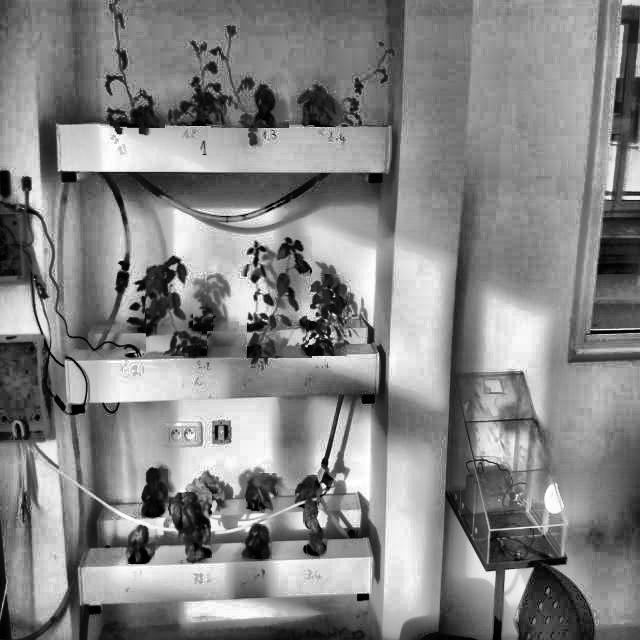plants: (309, 28, 394, 125), (100, 4, 165, 128), (211, 26, 289, 128), (247, 236, 312, 358), (146, 255, 207, 356), (166, 39, 221, 126), (302, 274, 347, 356), (239, 241, 274, 330), (169, 492, 212, 558), (127, 276, 165, 333), (303, 503, 327, 559), (126, 520, 155, 564), (142, 469, 168, 517), (246, 473, 278, 509), (242, 524, 272, 559), (295, 475, 320, 507), (193, 302, 213, 331)
